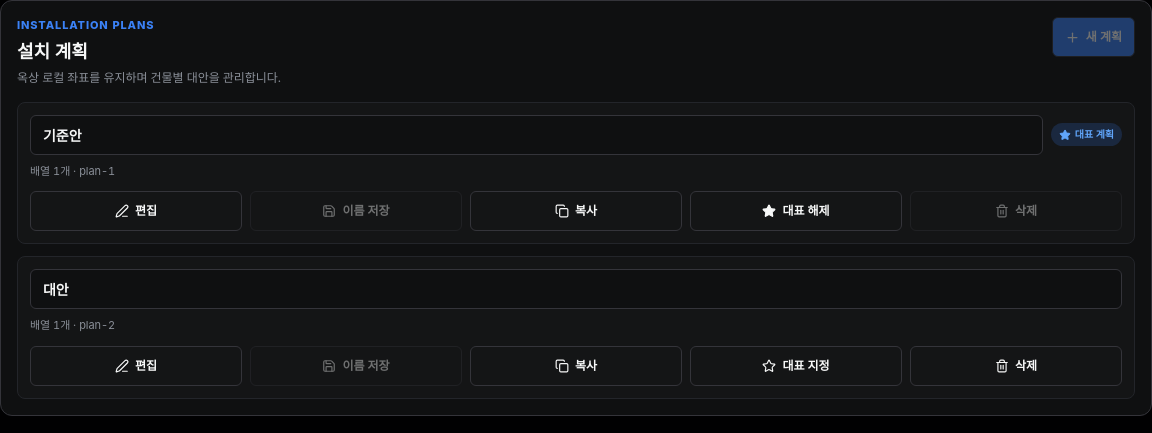
Test: InstallationPlanManager › explicitly clears a representative so its plan can be deleted
Click the button with aria-label "기준안 대표 해제" at x=796, y=211, box [690, 191, 902, 231]
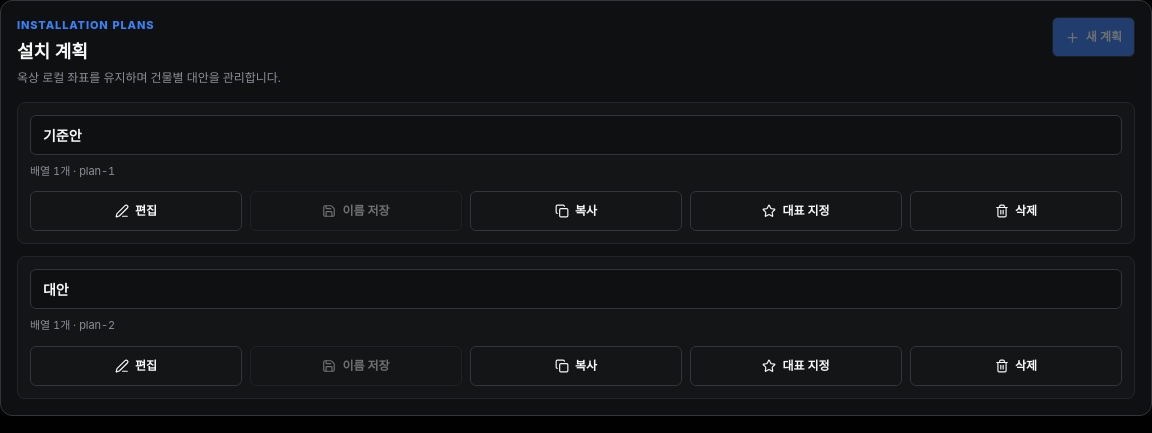
Expected: the button with aria-label "기준안 삭제" is enabled, [910, 191, 1122, 231]
